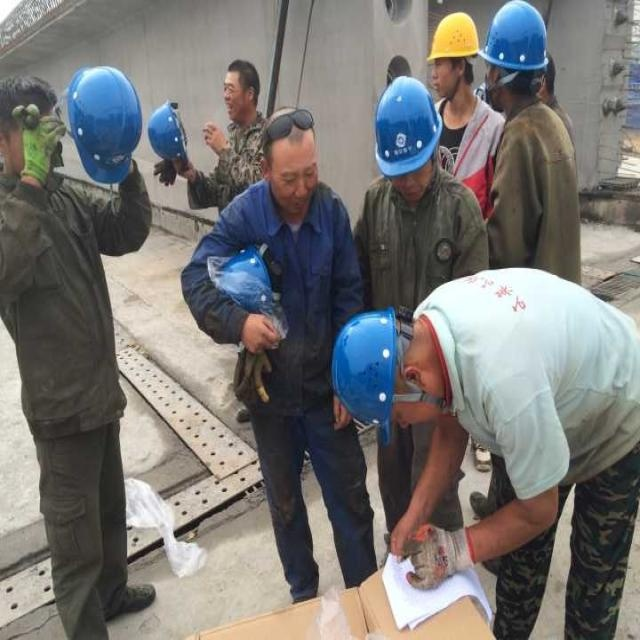Con_Casco: (372, 77, 443, 196)
Sin_Casco_Mascarrilla: (260, 104, 320, 210)
